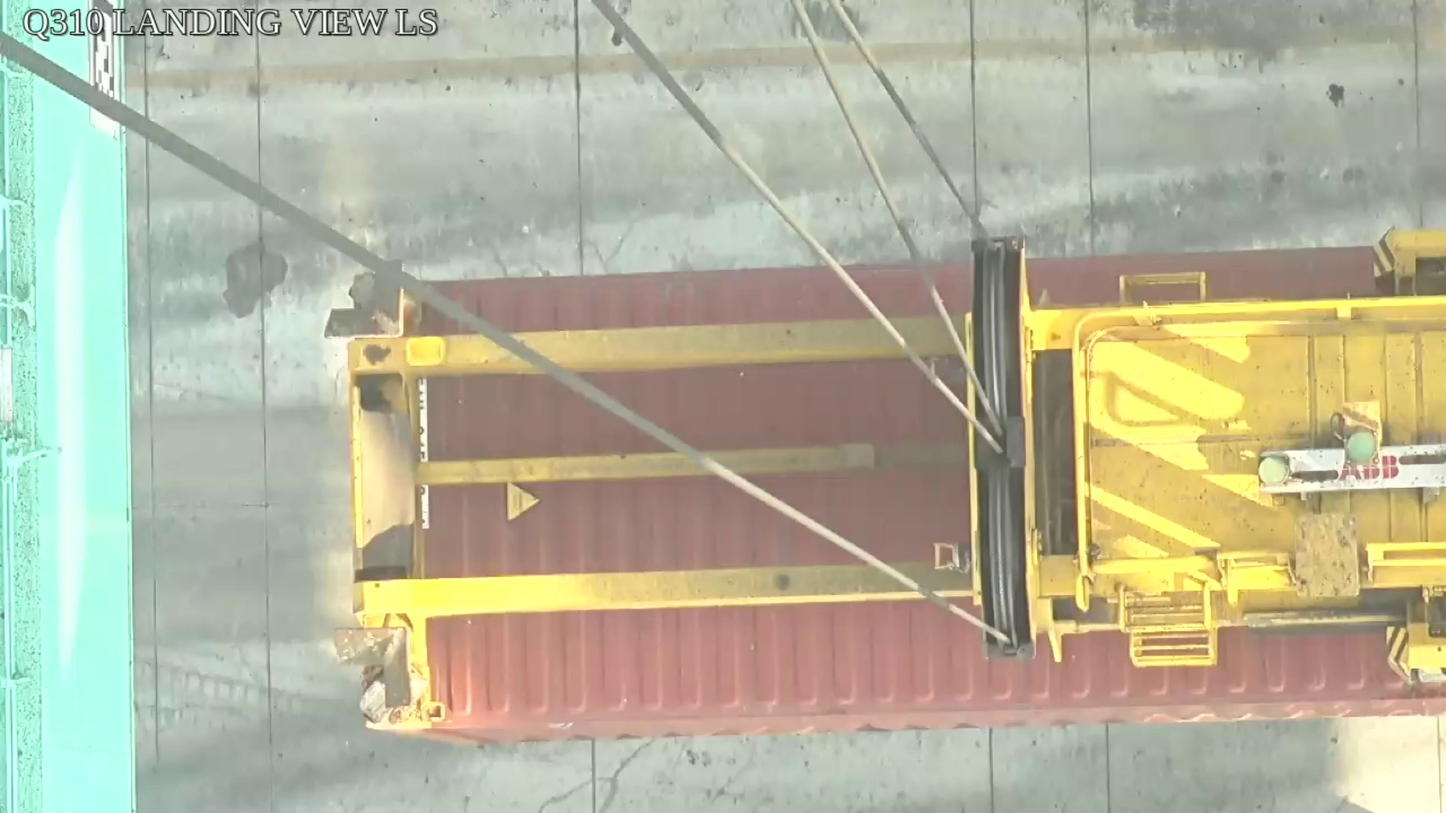aa: (960, 240, 1044, 660)
